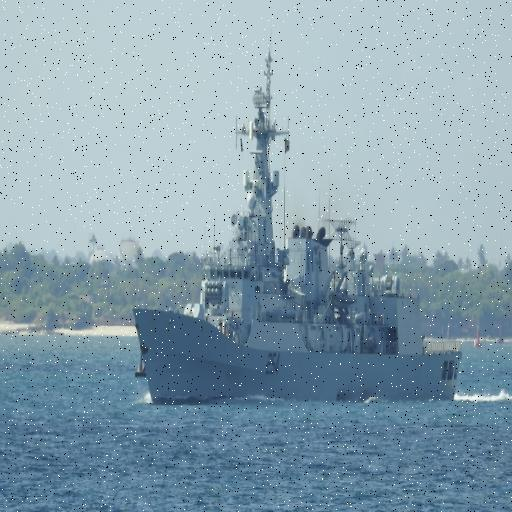Fragata: (132, 25, 466, 416)
